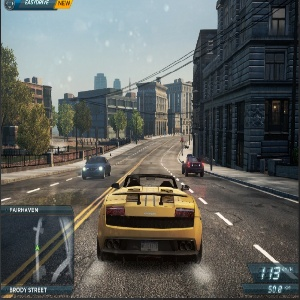building: (194, 31, 300, 159), (80, 87, 140, 141), (137, 80, 168, 135), (168, 77, 194, 133)
tree: (18, 96, 50, 163), (57, 99, 74, 147), (75, 101, 91, 143), (110, 107, 126, 143), (128, 110, 144, 143)
vehicle: (81, 154, 112, 180), (180, 153, 205, 177)
